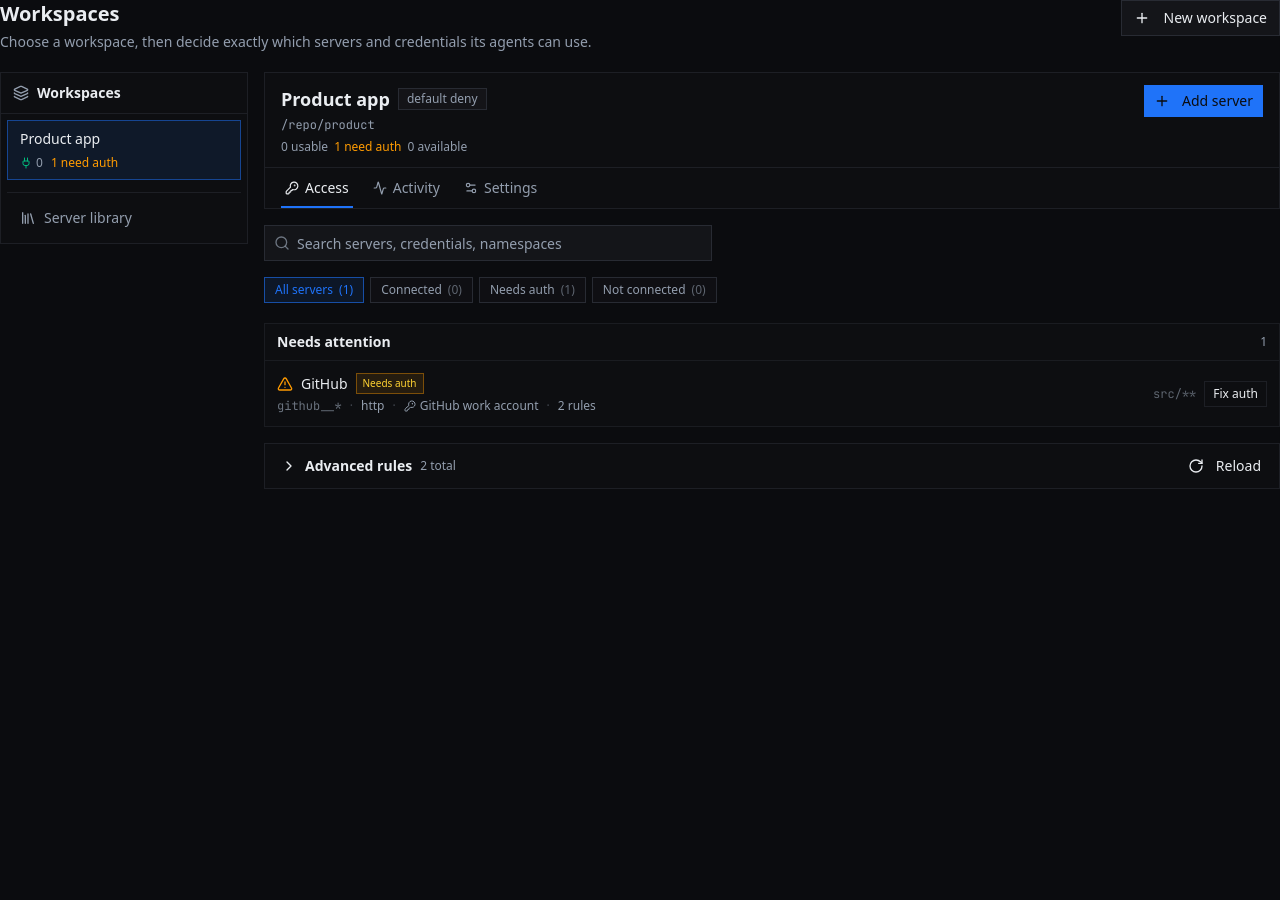
unified workspace console › keeps multi-rule access visible from the simple server row
Expected: the heading "Product app" is shown, [281,85,390,113]
Expected: the text "2 rules" is shown, [558,398,596,414]
Click the button with test id "connection-cell-github-ws-1": x=324, y=383 [265,361,1279,426]
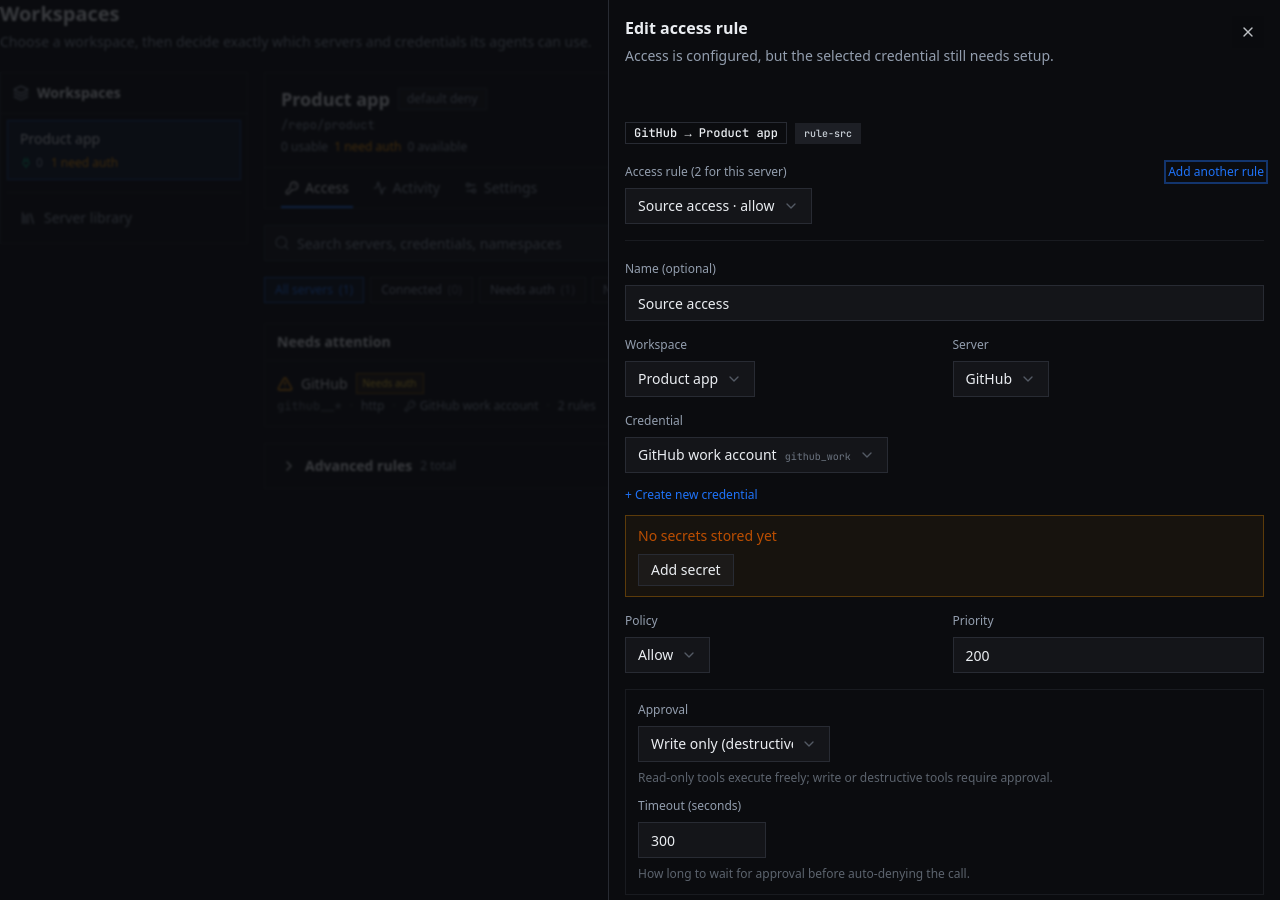
Now the heading "Edit access rule" is shown, box [625,17,748,39]
Now the dropdown with test id "connection-drawer-rule-select" is shown, box [625,188,812,224]
